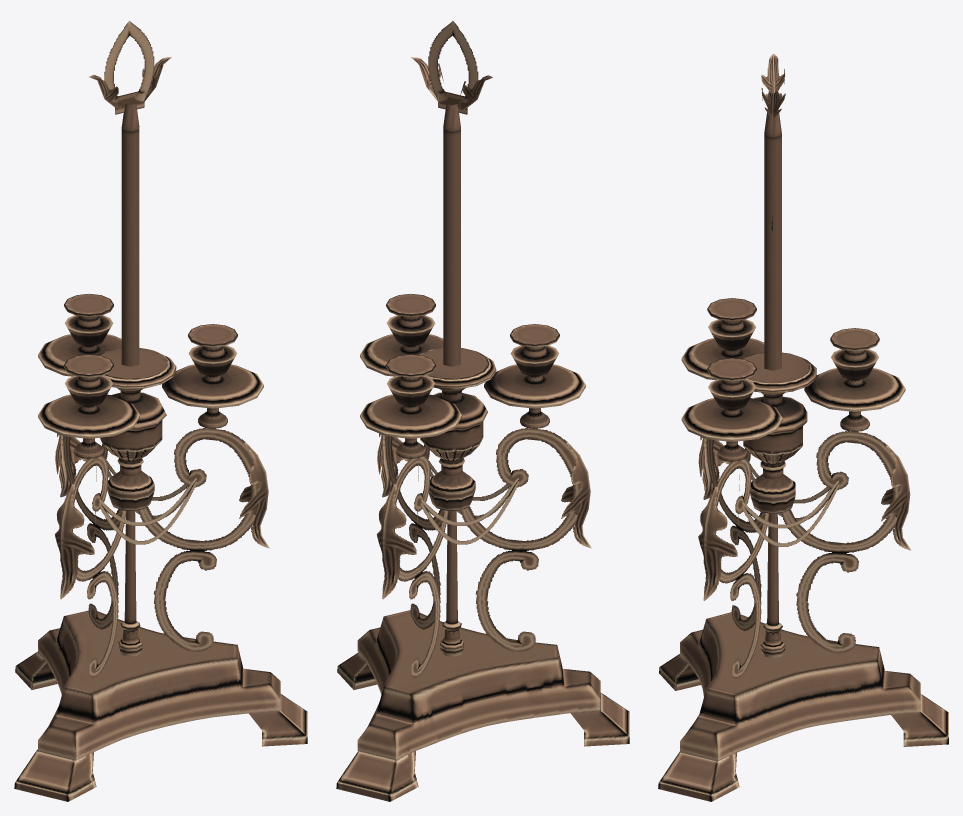
Rendered from TableLamp02.FBX.
The picture shows the model from 3 angles, left to right: view 1: azimuth 30°, elevation 25°; view 2: azimuth 150°, elevation 25°; view 3: azimuth 270°, elevation 25°; orthographic projection.
Visible parts, largest first — view 1: TableLamp02; view 2: TableLamp02; view 3: TableLamp02.
Part boxes in pixels (bbox=[...]): TableLamp02: bbox=[14, 21, 307, 801]; TableLamp02: bbox=[336, 20, 629, 801]; TableLamp02: bbox=[658, 53, 948, 801].
Size of the model in its own units: 45.19 by 39.2 by 105.
